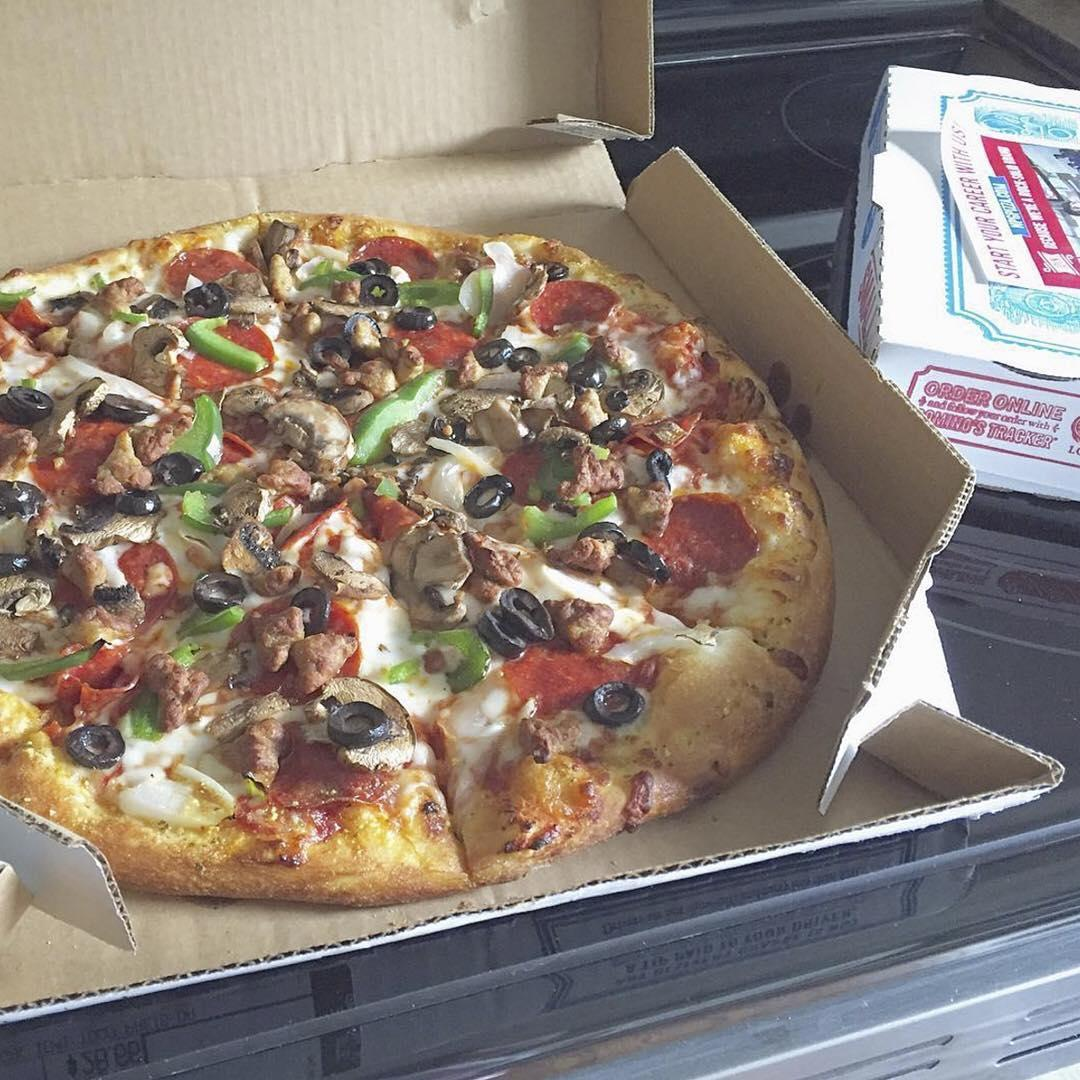Mushroom: (396, 499, 469, 630), (255, 393, 349, 467), (465, 359, 555, 403)
Olives: (355, 260, 437, 335), (578, 521, 663, 582), (485, 586, 545, 640), (150, 443, 209, 497), (321, 696, 388, 743), (190, 564, 241, 620), (61, 718, 118, 768), (75, 571, 135, 616), (87, 489, 166, 523), (288, 576, 331, 634), (588, 683, 647, 722), (479, 341, 545, 375), (593, 406, 639, 453), (5, 390, 59, 429), (470, 473, 507, 519), (0, 481, 48, 513), (98, 396, 151, 423), (647, 451, 683, 486), (186, 278, 219, 309)
Pepperoni: (243, 722, 388, 818), (500, 640, 659, 722), (41, 633, 171, 722), (155, 315, 286, 398), (643, 487, 763, 573), (30, 420, 137, 501), (528, 273, 633, 347), (283, 505, 383, 580), (353, 226, 441, 287), (151, 241, 241, 283)
Peppers: (348, 378, 457, 469), (516, 488, 627, 550), (156, 390, 235, 477), (403, 620, 491, 693), (191, 323, 281, 375), (173, 498, 237, 531), (467, 261, 490, 330)
Pizza: (0, 208, 833, 910)
